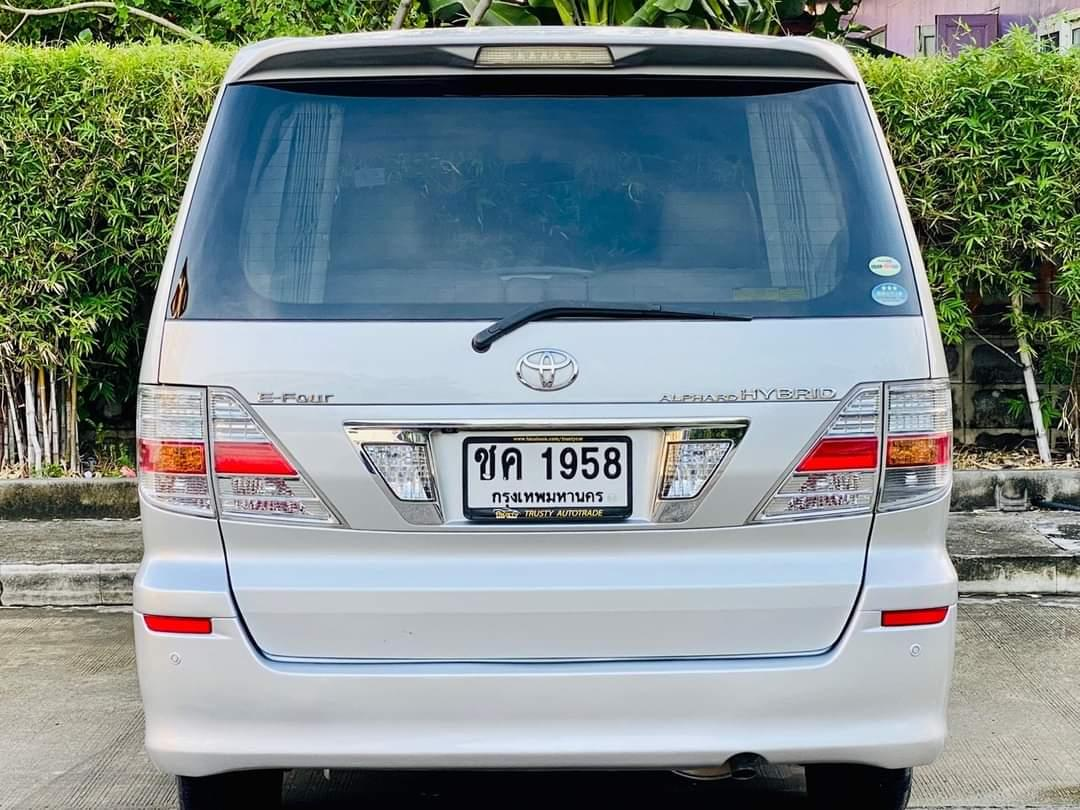license-plate: (455, 430, 638, 526)
